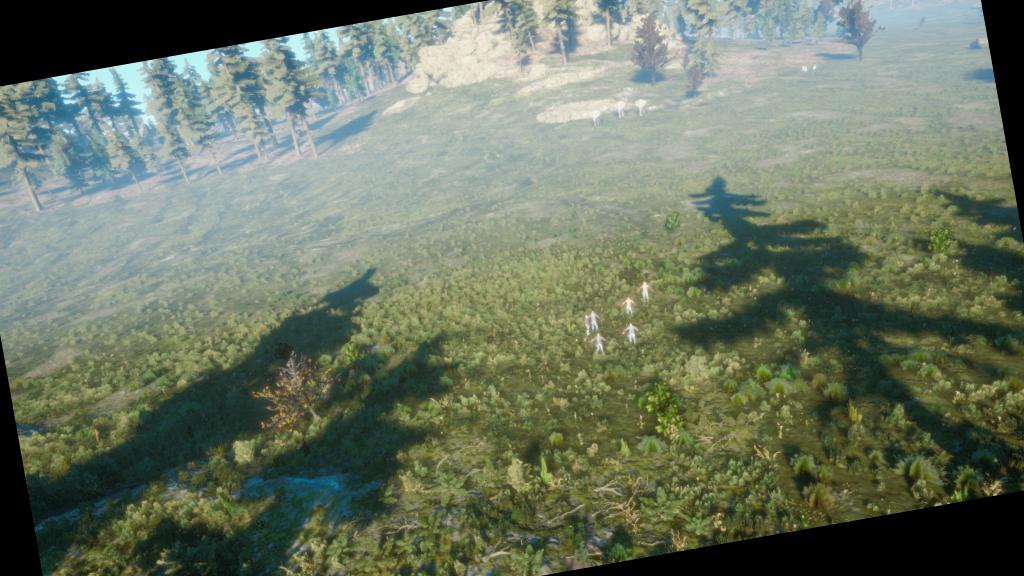elephant: (629, 84, 663, 126), (580, 96, 610, 136), (606, 87, 633, 127)
human: (570, 270, 670, 366)
